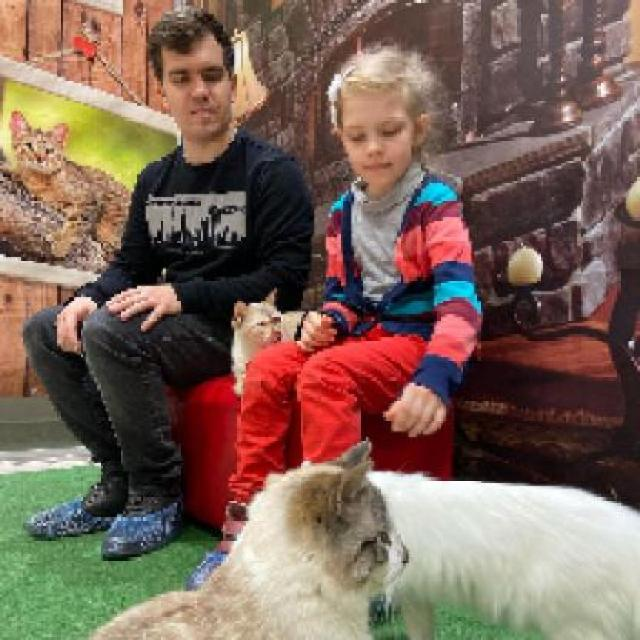child: (229, 50, 485, 473)
